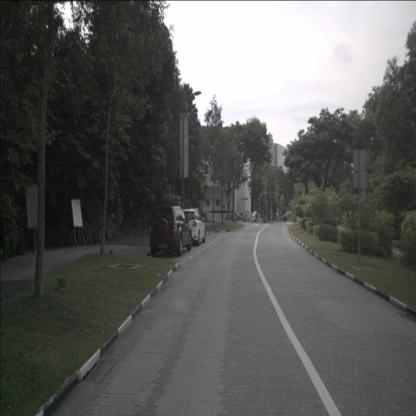human-pedestrian-adult: (256, 213, 258, 222)
vehicle-car: (150, 206, 192, 257), (177, 208, 205, 245), (253, 210, 258, 218)
